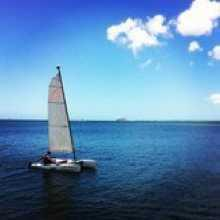fanchuan: (30, 62, 95, 171)
